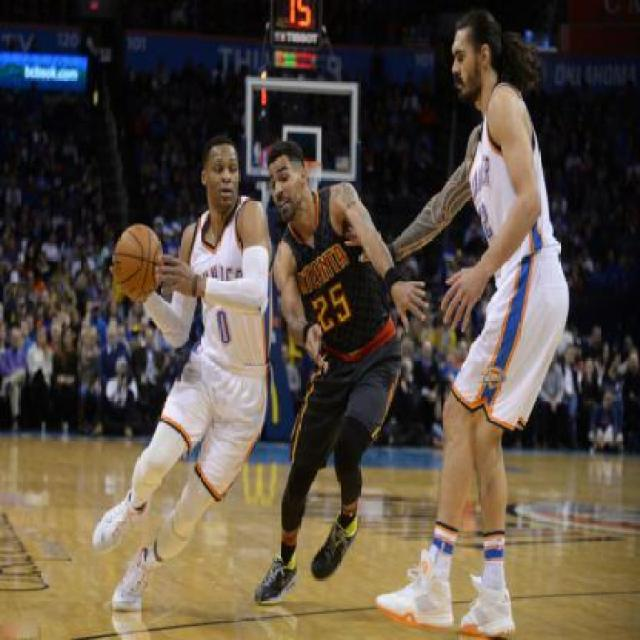Person: (415, 16, 559, 633), (253, 147, 382, 593), (176, 133, 264, 570)
